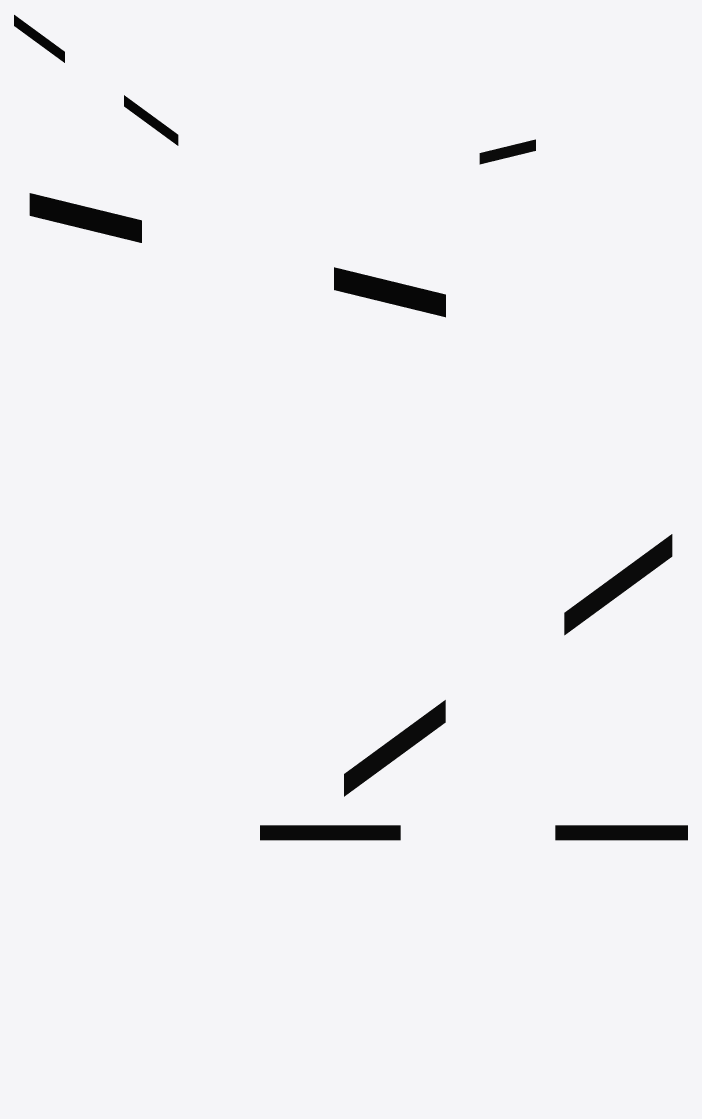
Rendered from LAKETOWN_WAREHOUSE2_PS_WH2_GRIME_EDGE_4955.fbx.
3 views of the same model, one above another, from view 1: azimuth 30°, elevation 25°; view 2: azimuth 150°, elevation 25°; view 3: azimuth 270°, elevation 25° (orthographic). The views are drawn at different scales.
Parts seen in each view (by area): view 1: LAKETOWN_WAREHOUSE2_PS_WH2_GRIME_EDGE_4955; view 2: LAKETOWN_WAREHOUSE2_PS_WH2_GRIME_EDGE_4955; view 3: LAKETOWN_WAREHOUSE2_PS_WH2_GRIME_EDGE_4955.
Boxes of the visible parts, box(x1,y1,x2,y2) form: LAKETOWN_WAREHOUSE2_PS_WH2_GRIME_EDGE_4955: box(14, 15, 535, 164); LAKETOWN_WAREHOUSE2_PS_WH2_GRIME_EDGE_4955: box(29, 193, 672, 796); LAKETOWN_WAREHOUSE2_PS_WH2_GRIME_EDGE_4955: box(260, 825, 687, 840).
Bounding box in the file's own units: 117323 × 3078 × 126407.
1 material, 1 textured.
